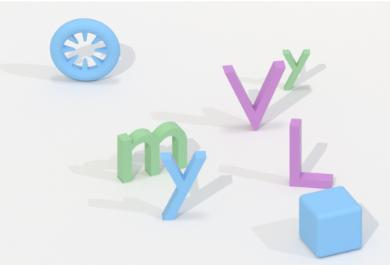0-KhoiVuong: (296, 185, 366, 261)
0-TronLo: (44, 14, 125, 85)
L: (284, 115, 335, 191)
V: (218, 58, 287, 132)
m: (111, 116, 190, 184)
y: (157, 149, 209, 226), (280, 43, 313, 94)
